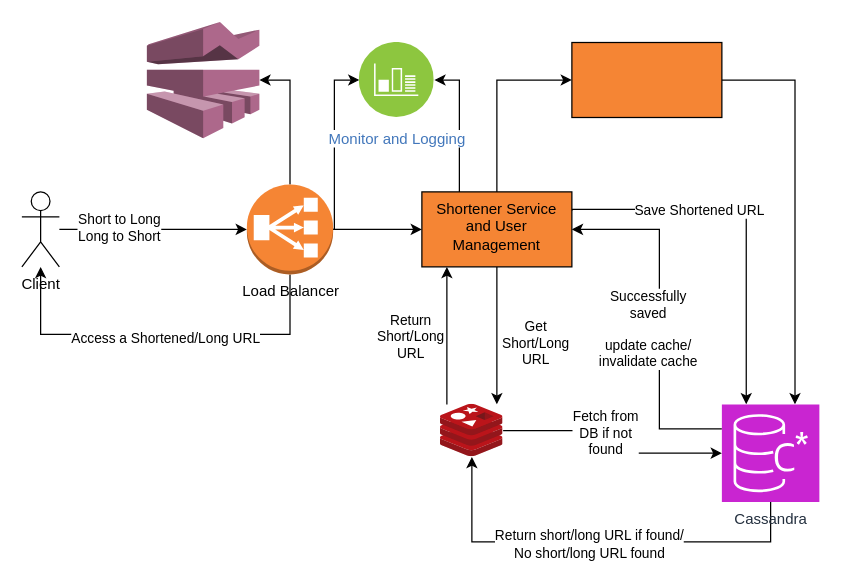
This 841x581 diagram has some shape labels left out. Here are the shapes that lost their labels. From the top down, the centre of each, then its label:
pixel 202 79: analytics
pixel 646 79: Redirection Service
